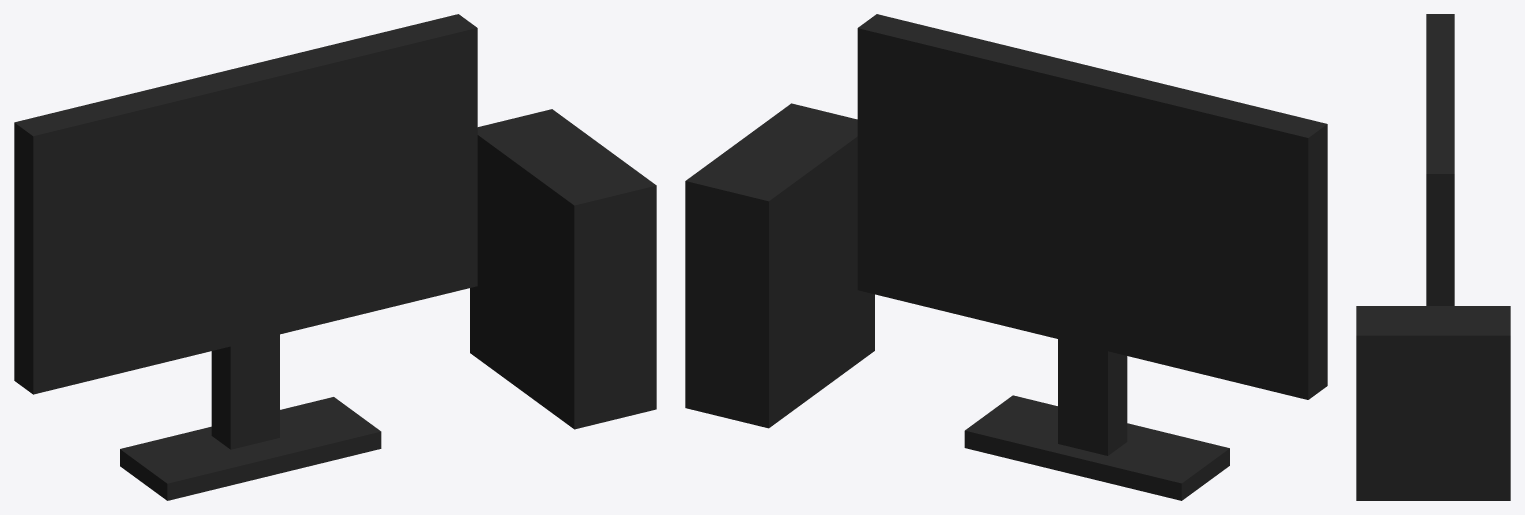
File: megacomputer.obj
3 renders of one model, left to right at view 1: azimuth 30°, elevation 25°; view 2: azimuth 150°, elevation 25°; view 3: azimuth 270°, elevation 25°, orthographic. The views are drawn at different scales.
Parts seen in each view (by area): view 1: megacomputer; view 2: megacomputer; view 3: megacomputer.
Part boxes in pixels (bbox=[...]): megacomputer: bbox=[14, 14, 656, 500]; megacomputer: bbox=[685, 14, 1327, 500]; megacomputer: bbox=[1356, 14, 1510, 500].
Bounding box in the file's own units: 35 × 22 × 11.
Materials: 1 (1 with a texture image).
